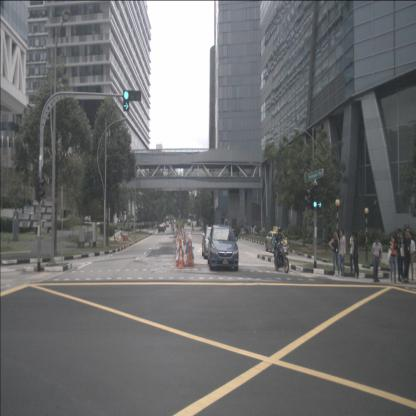human-pedestrian-adult: (402, 227, 412, 284), (387, 235, 398, 286), (394, 228, 404, 284), (370, 236, 382, 282), (329, 231, 340, 278), (407, 231, 415, 281), (338, 228, 346, 278), (352, 233, 360, 279), (349, 231, 356, 278), (398, 232, 404, 282), (244, 222, 247, 235), (254, 223, 257, 236), (246, 223, 249, 235), (238, 223, 241, 234), (191, 222, 194, 233), (123, 221, 126, 232), (141, 221, 144, 230), (252, 223, 254, 235)
movable_object-barrier: (176, 237, 185, 266), (186, 237, 194, 267)
movable_object-trafficcone: (177, 248, 184, 268)
vehicle-bicycle: (272, 226, 289, 274)
vehicle-car: (208, 224, 238, 271), (202, 227, 224, 259), (265, 226, 289, 254), (158, 224, 165, 233), (187, 218, 191, 226), (165, 220, 169, 228)
